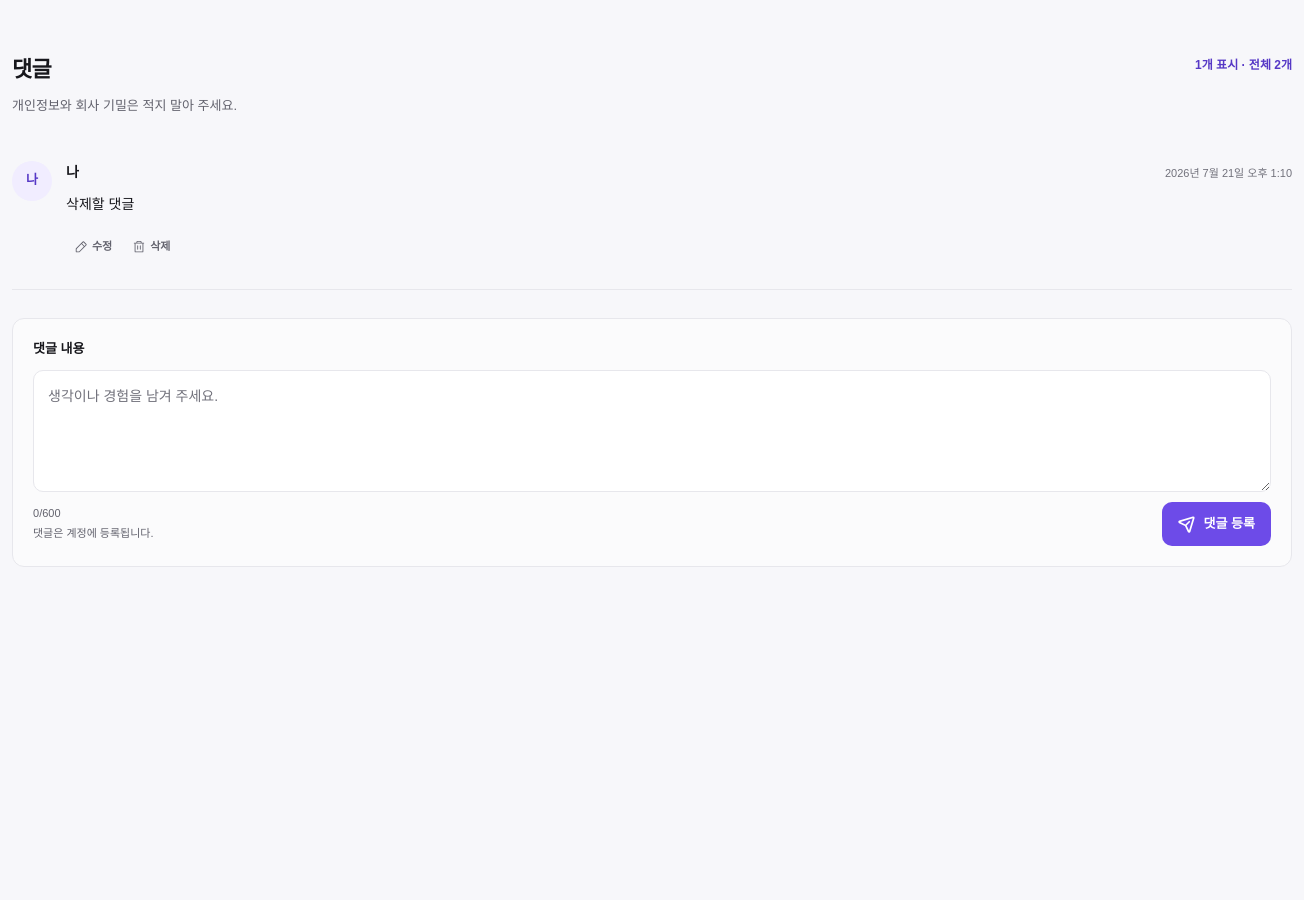
ServerCommentList › creates and deletes server comments while reporting count changes
Expected: the text "삭제할 댓글" is shown, [66, 196, 134, 212]
Type "새 서버 댓글" into the text box labelled "댓글 내용".
click(652, 431); type("새 서버 댓글")  # box [33, 370, 1271, 492]
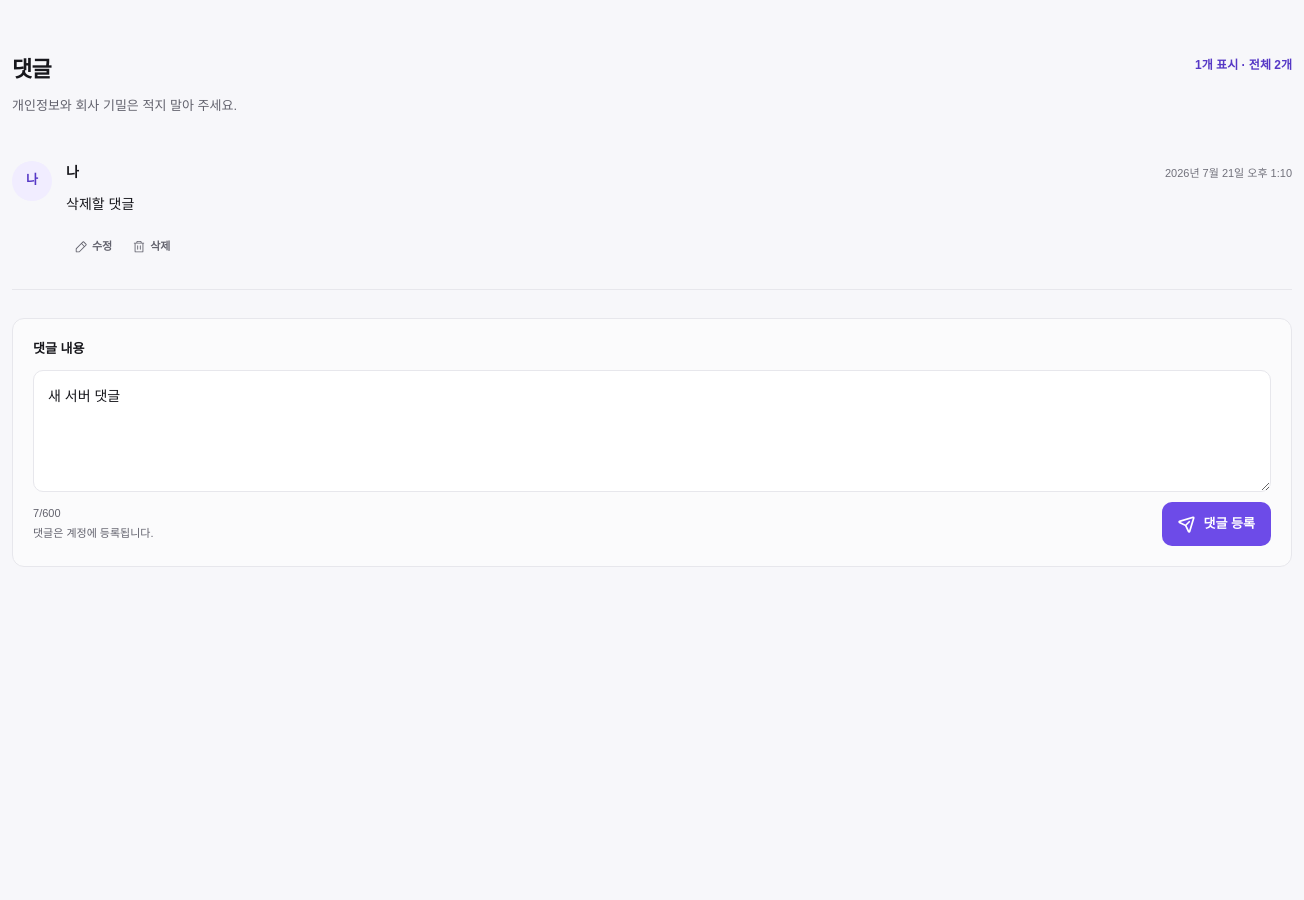
Click the button "댓글 등록".
click(1217, 524)  # box [1162, 502, 1271, 546]
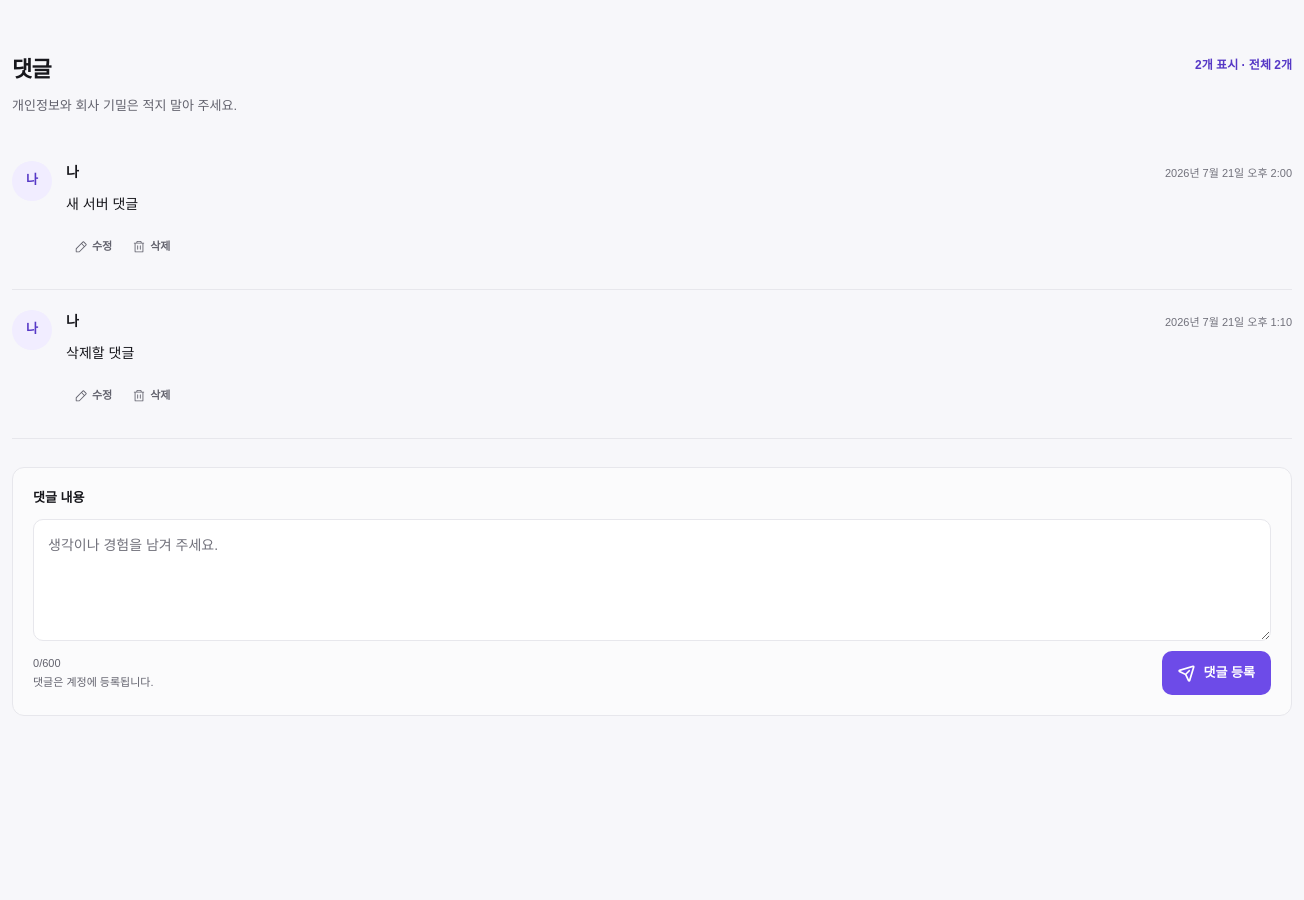
Expected: the text box "새 서버 댓글" is shown, [33, 519, 1271, 641]
Click the button with aria-label "삭제할 댓글 댓글 삭제".
click(151, 396)  # box [124, 374, 179, 418]
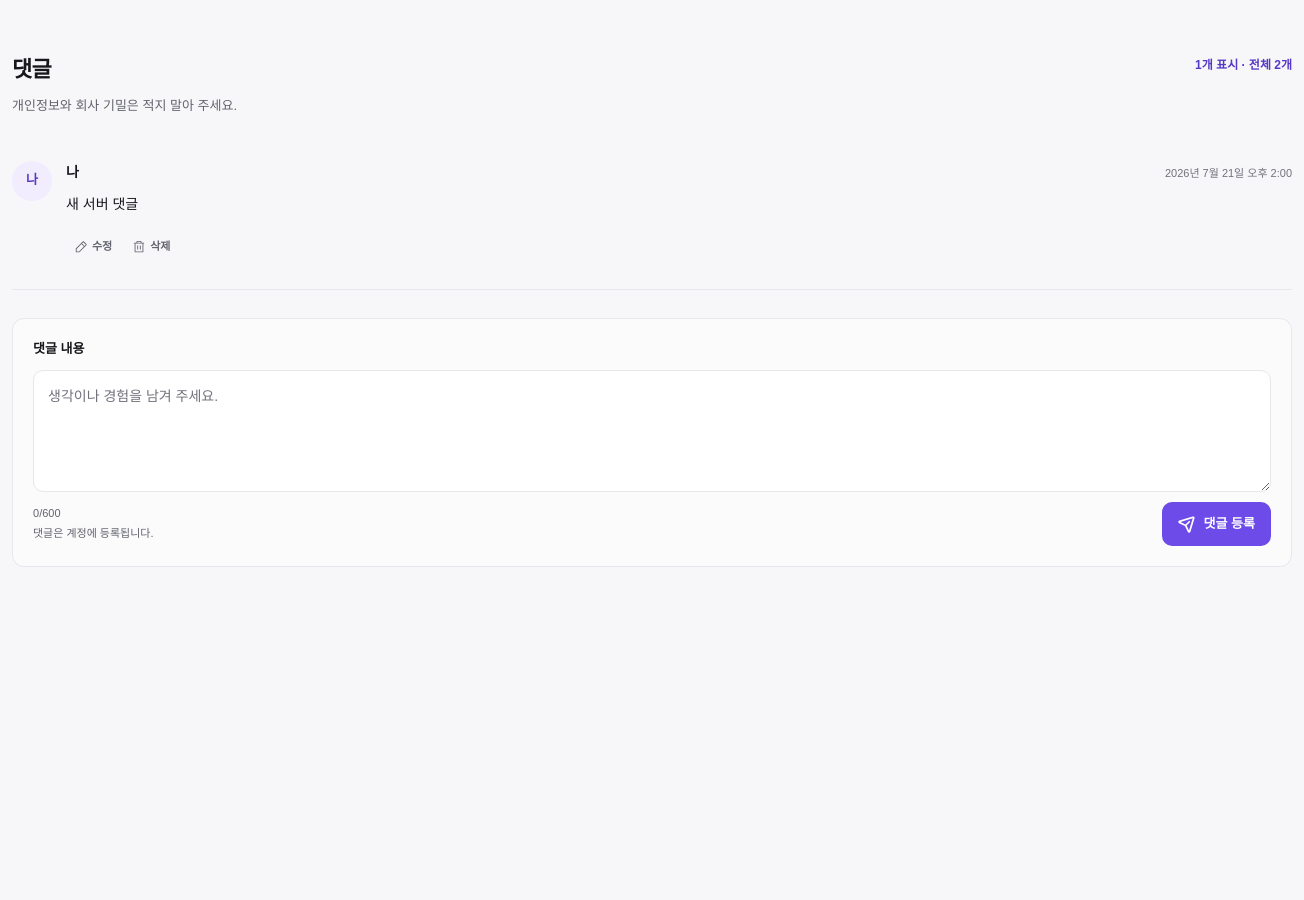
Now the text "삭제할 댓글" is gone
